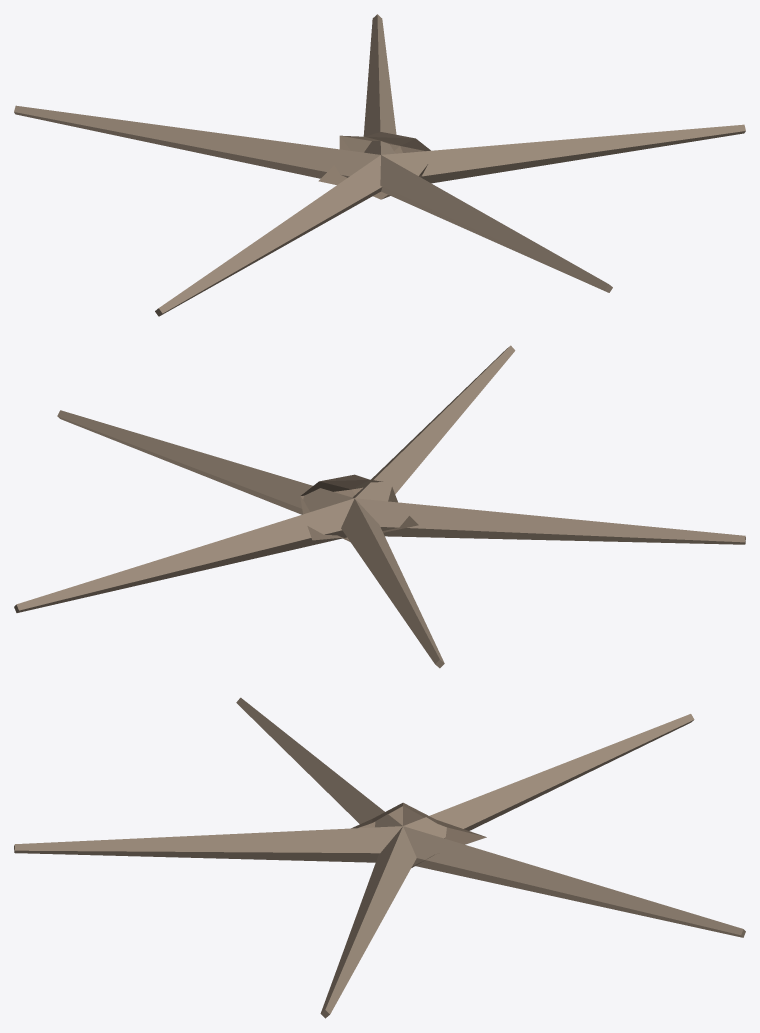
3 views of the same model, one above another, from view 1: azimuth 30°, elevation 25°; view 2: azimuth 150°, elevation 25°; view 3: azimuth 270°, elevation 25° (orthographic). The views are drawn at different scales.
Parts seen in each view (by area): view 1: lod0; view 2: lod0; view 3: lod0.
Boxes of the visible parts, x1,y1,x2,y2 form: lod0: (14, 14, 745, 316); lod0: (14, 345, 745, 668); lod0: (14, 697, 745, 1018).
Size of what is drawn, in the model's own units: 1.8 by 0.1857 by 1.78.
